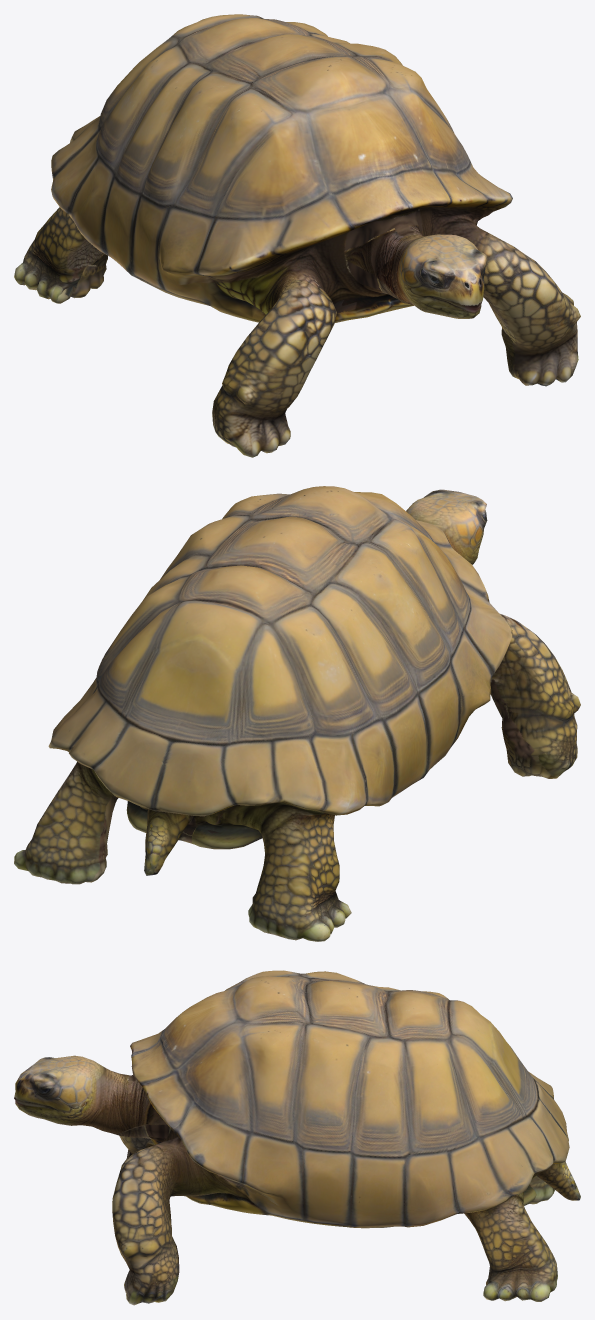
File: Turtle.fbx
The picture shows the model from 3 angles, top to bottom: view 1: azimuth 30°, elevation 25°; view 2: azimuth 150°, elevation 25°; view 3: azimuth 270°, elevation 25°; orthographic projection. The views are drawn at different scales.
Visible parts, largest first — view 1: Mesh_0.009; view 2: Mesh_0.009; view 3: Mesh_0.009.
Boxes of the visible parts, x1,y1,x2,y2 form: Mesh_0.009: (14,14,580,457); Mesh_0.009: (14,486,580,941); Mesh_0.009: (14,970,580,1305).
Bounding box in the file's own units: 125 × 99.99 × 199.
Materials: 1 (1 with a texture image).
